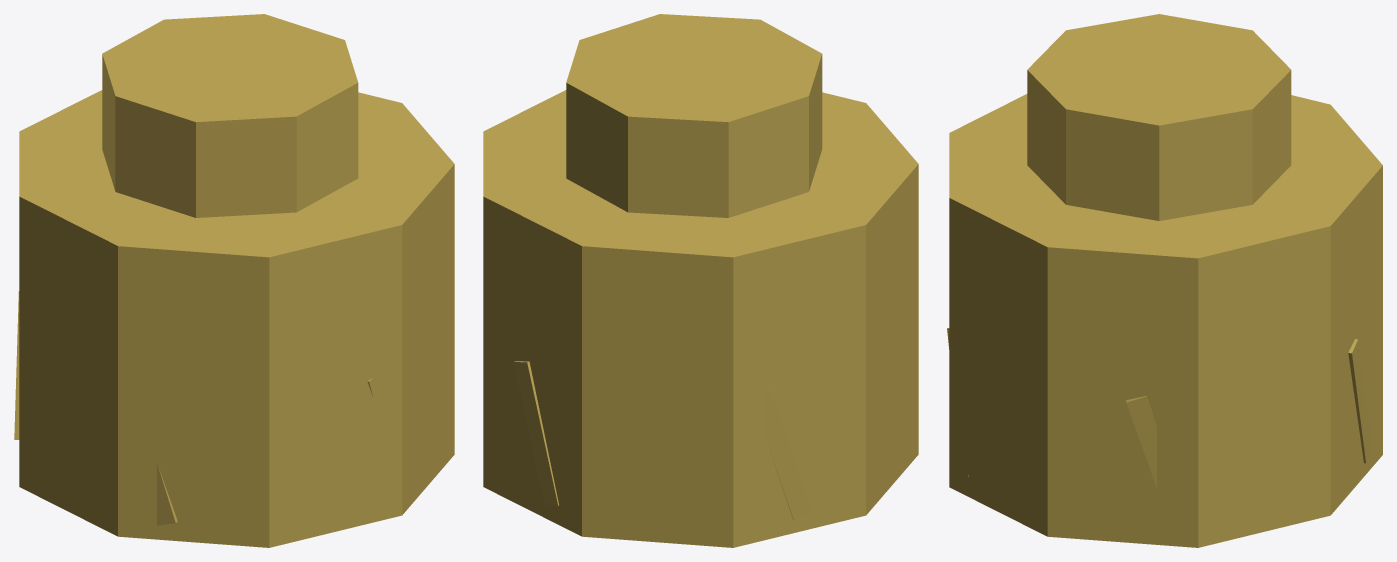
File: prop_haystack.glb
The picture shows the model from 3 angles, left to right: view 1: azimuth 30°, elevation 25°; view 2: azimuth 150°, elevation 25°; view 3: azimuth 270°, elevation 25°; orthographic projection.
Parts seen in each view (by area): view 1: prop_haystack; view 2: prop_haystack; view 3: prop_haystack.
Boxes of the visible parts, bbox=[...] form: prop_haystack: bbox=[14, 14, 454, 547]; prop_haystack: bbox=[483, 14, 918, 547]; prop_haystack: bbox=[947, 14, 1382, 547].
Size of the model in its own units: 2.07 by 2 by 2.05.
